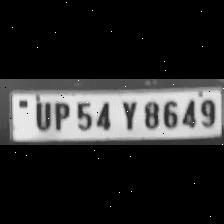4: (93, 98, 115, 132), (178, 96, 198, 128)
5: (72, 98, 94, 132)
6: (160, 98, 178, 130)
8: (139, 98, 159, 130)
9: (196, 96, 218, 128)
P: (51, 100, 71, 132)
U: (31, 99, 54, 131)
Y: (116, 99, 140, 131)
